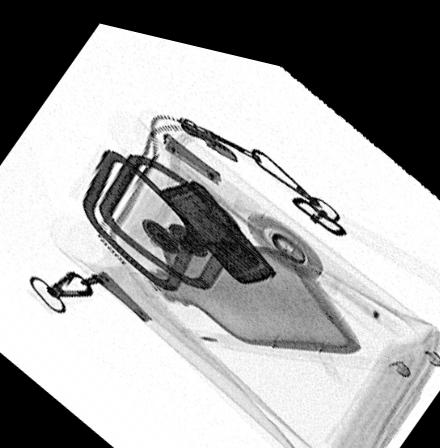Lighter: (157, 169, 275, 274)
